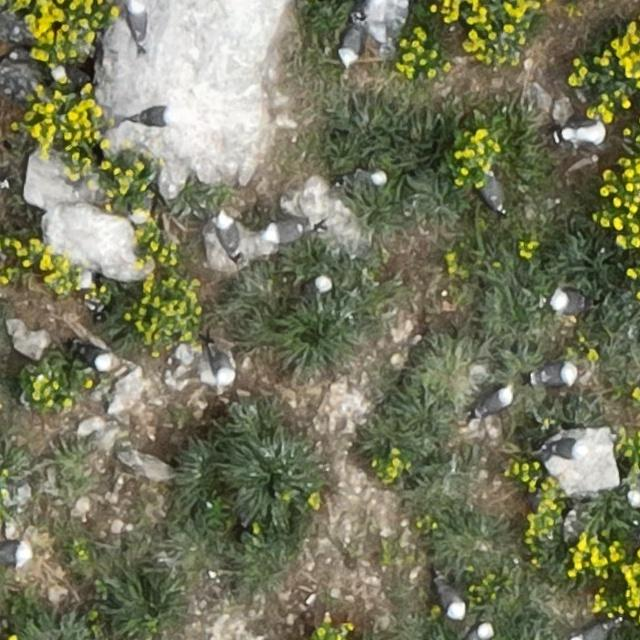umineko: (564, 123, 604, 145), (263, 222, 306, 242), (478, 390, 511, 416), (438, 582, 463, 616), (341, 26, 362, 64), (80, 344, 112, 368), (552, 291, 586, 313), (212, 351, 234, 384), (537, 364, 573, 384), (219, 217, 239, 253), (128, 2, 146, 41), (546, 439, 582, 458), (132, 109, 172, 126), (483, 180, 503, 213), (55, 65, 88, 83), (3, 544, 30, 565), (355, 169, 387, 184), (464, 624, 492, 639), (310, 274, 331, 294)
